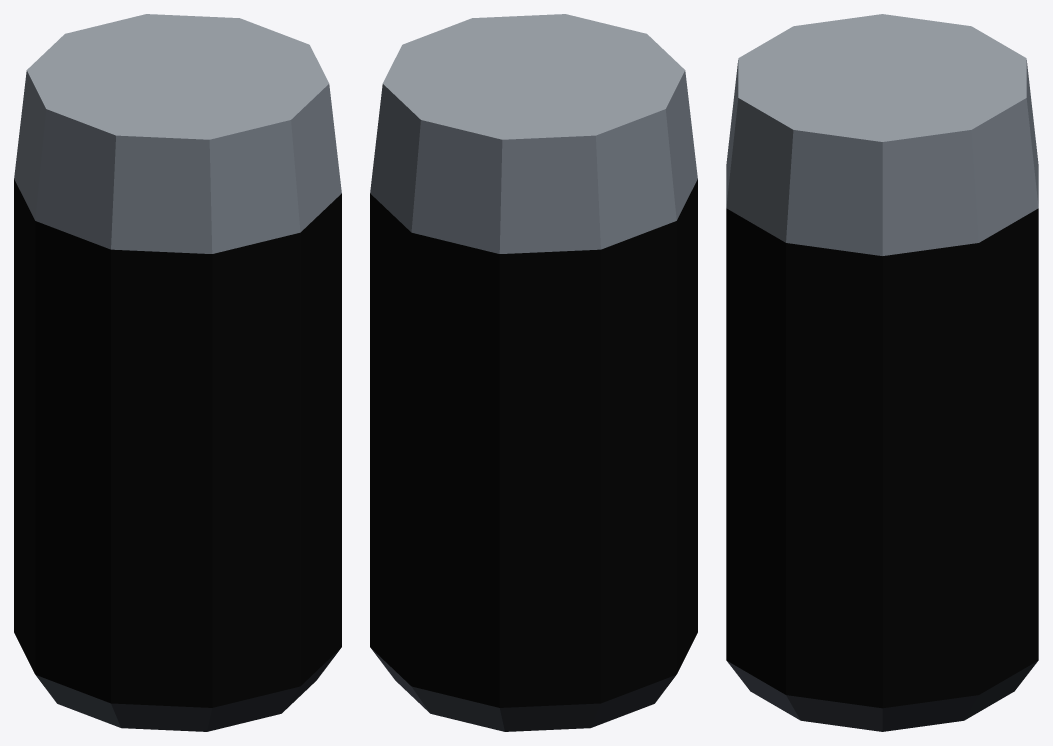
Rendered from Item_can_coffee.fbx.
3 renders of one model, left to right at view 1: azimuth 30°, elevation 25°; view 2: azimuth 150°, elevation 25°; view 3: azimuth 270°, elevation 25°, orthographic.
Visible parts, largest first — view 1: Body, Top, Band, Bottom; view 2: Body, Top, Band, Bottom; view 3: Body, Top, Band, Bottom.
Part boxes in pixels (x1=…): Body: x1=14, y1=265, x2=341, y2=707; Top: x1=14, y1=14, x2=341, y2=253; Band: x1=14, y1=179, x2=341, y2=340; Bottom: x1=36, y1=648, x2=340, y2=731; Body: x1=370, y1=265, x2=697, y2=707; Top: x1=370, y1=14, x2=697, y2=253; Band: x1=370, y1=179, x2=697, y2=340; Bottom: x1=371, y1=648, x2=675, y2=731; Body: x1=726, y1=294, x2=1038, y2=708; Top: x1=726, y1=14, x2=1038, y2=255; Band: x1=726, y1=208, x2=1038, y2=341; Bottom: x1=726, y1=660, x2=1038, y2=731.
Size of the model in its own units: 0.0702 by 0.1404 by 0.0668.
